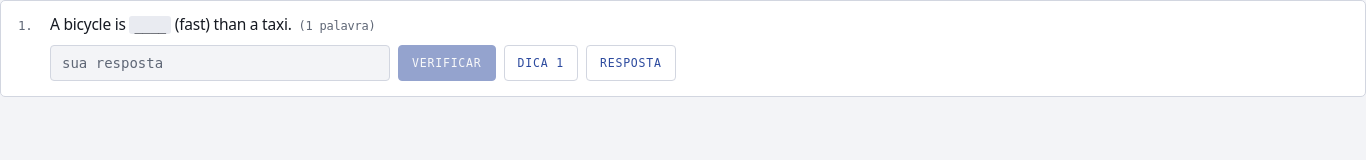
Test: ExerciseCard › resposta 101 continua no campo e não é anunciada como salva
In the field: (220, 63) [50,45,390,81], type "faster"
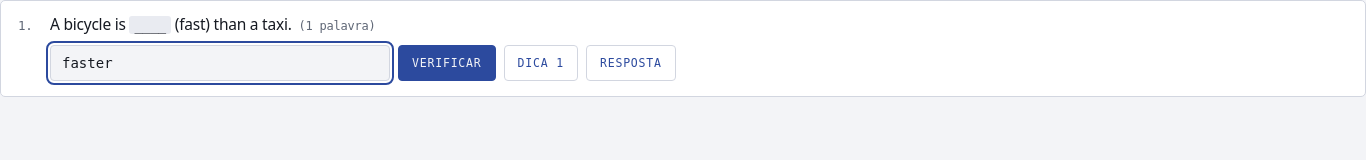
Click the button "Verificar": (447, 63) [398,45,496,81]
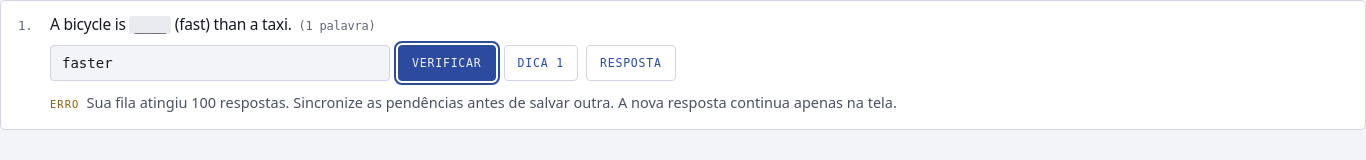
expect the text "atingiu 100" is shown: met, box [86,92,897,112]
